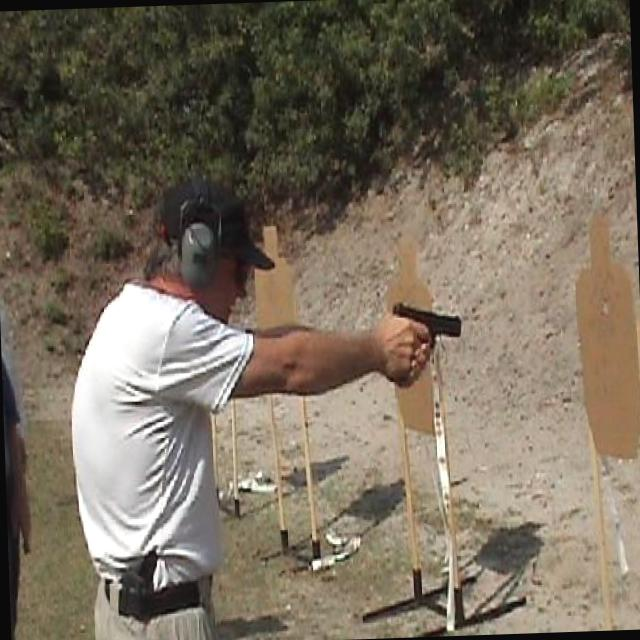handgun: (384, 297, 462, 378)
